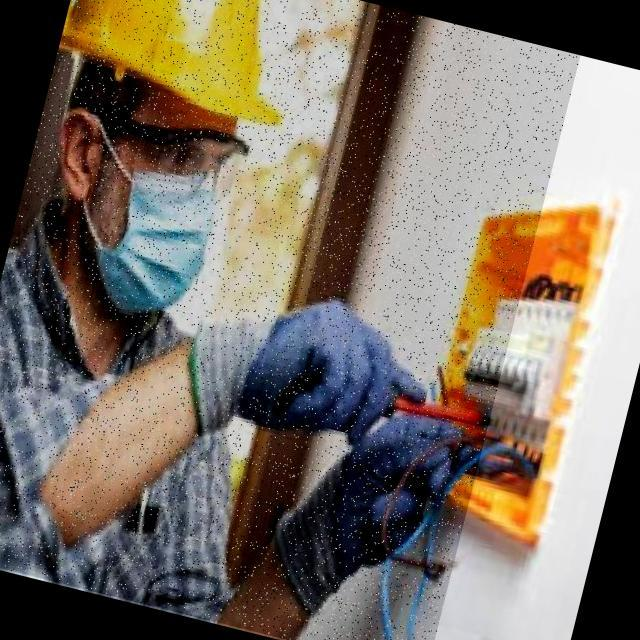Gloves: (258, 417, 503, 623), (188, 294, 435, 455)
Helmet: (49, 0, 309, 138)
Person: (0, 0, 520, 640)
no-vest: (2, 197, 259, 638)
